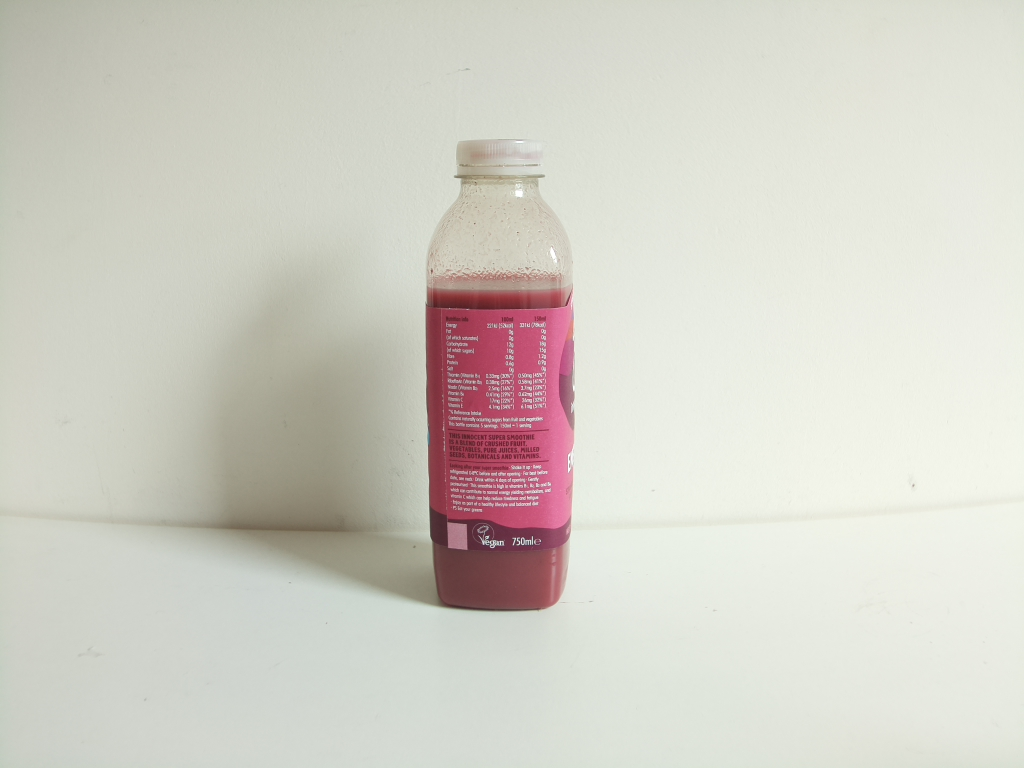juice: (419, 131, 582, 619)
